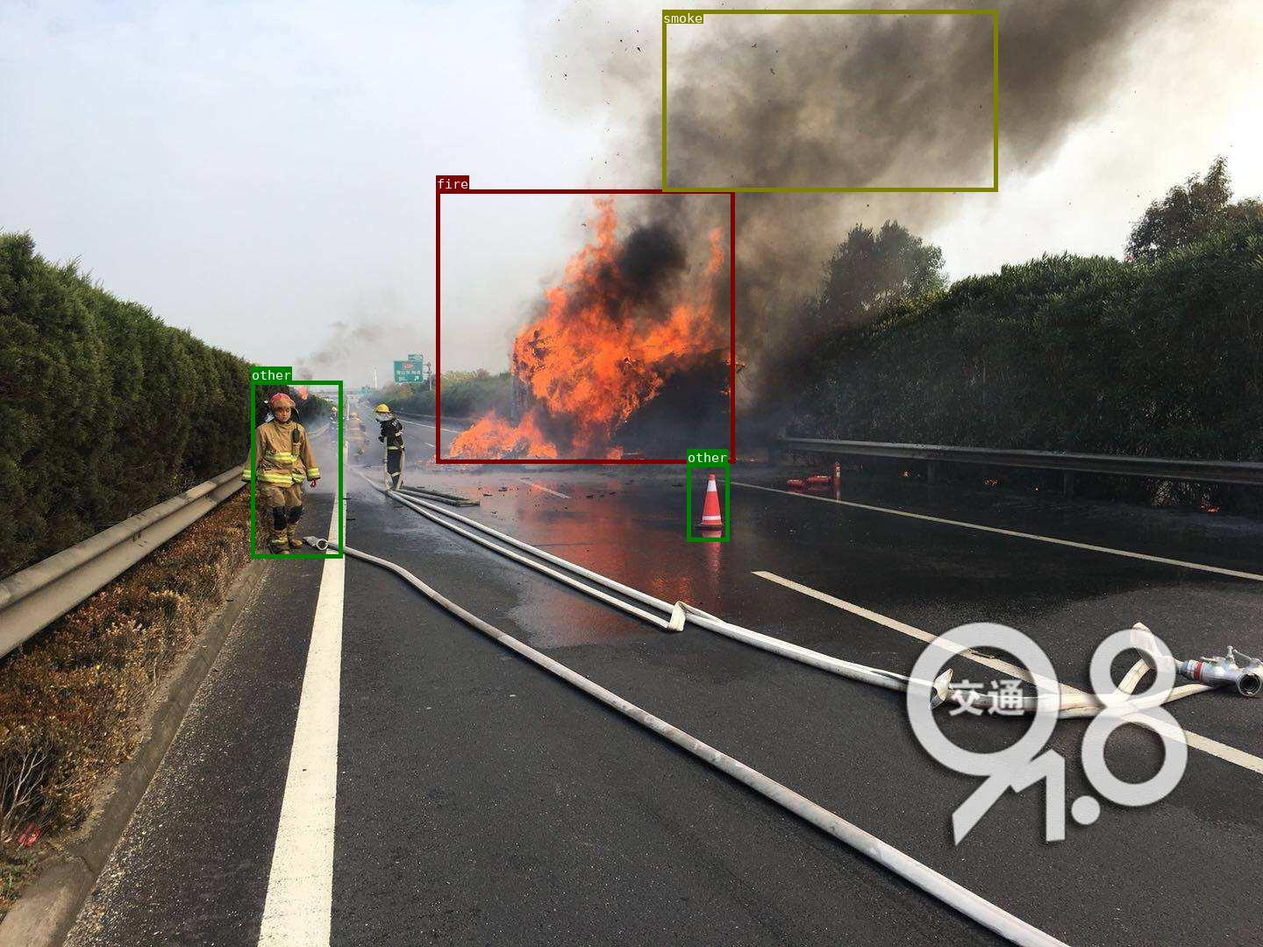fire: (435, 189, 734, 463)
other: (251, 380, 342, 557), (686, 463, 729, 540)
smoke: (661, 9, 997, 191)
